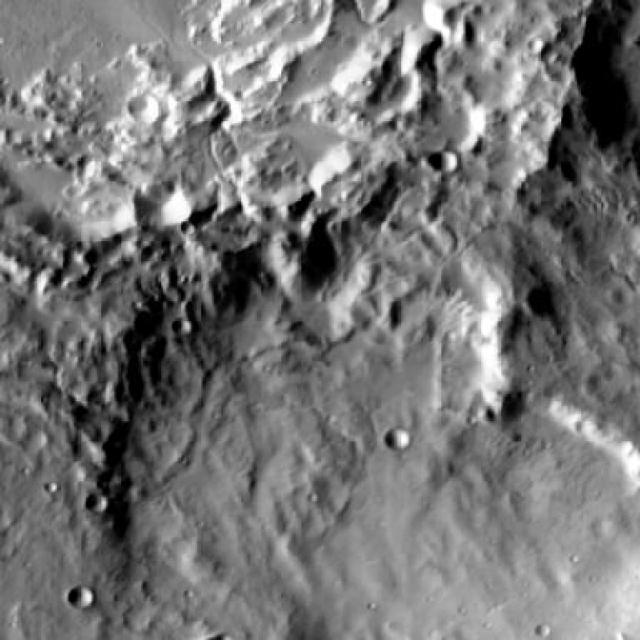crater: (126, 232, 600, 640), (309, 398, 640, 640), (138, 184, 196, 236), (124, 96, 156, 125), (67, 586, 93, 609), (400, 434, 426, 457), (430, 151, 455, 174), (86, 495, 108, 514), (173, 321, 195, 339)
